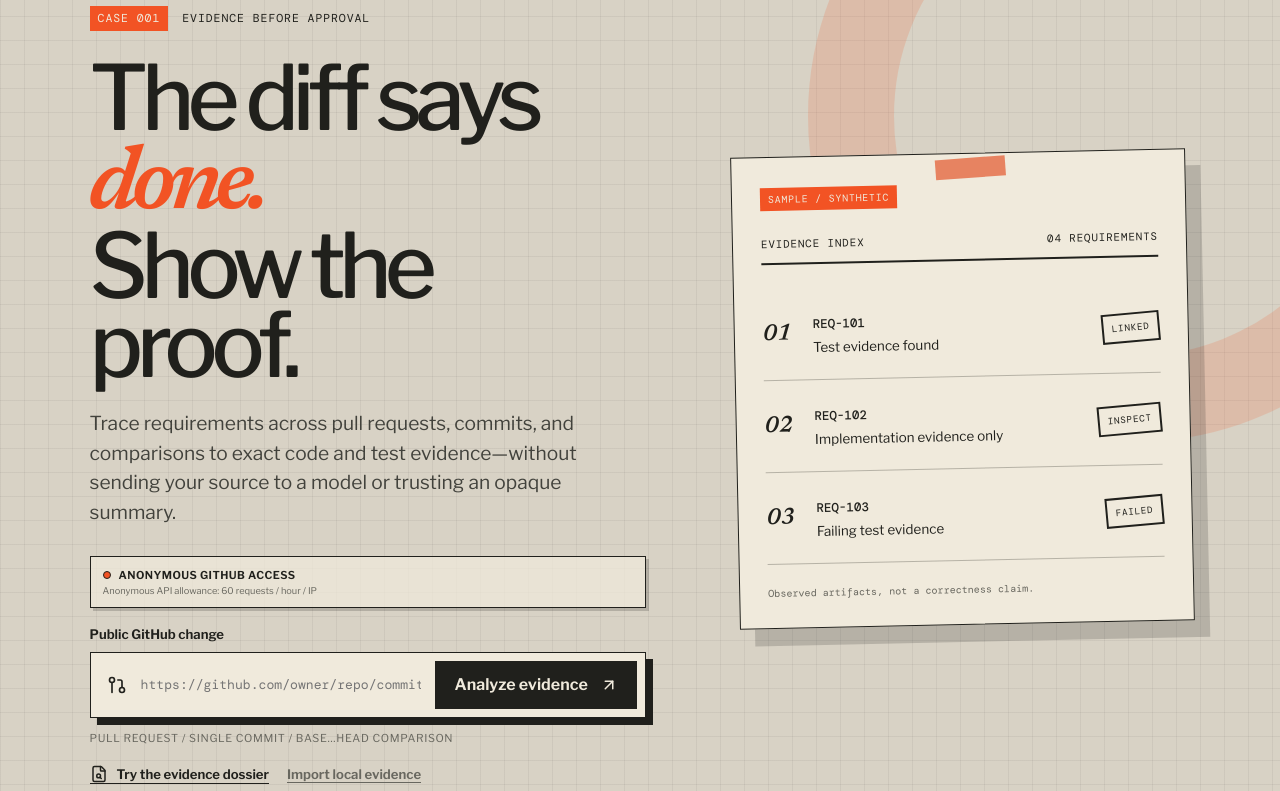
Test: Proofline application › PL-105 runs the real synthetic domains from one user action
(page scrolled)
Check: the text "Sample / synthetic" is shown, box 760,185 -> 898,211
Click the button "Try the evidence dossier": (179, 774) 90,765 -> 269,784
(page scrolled)
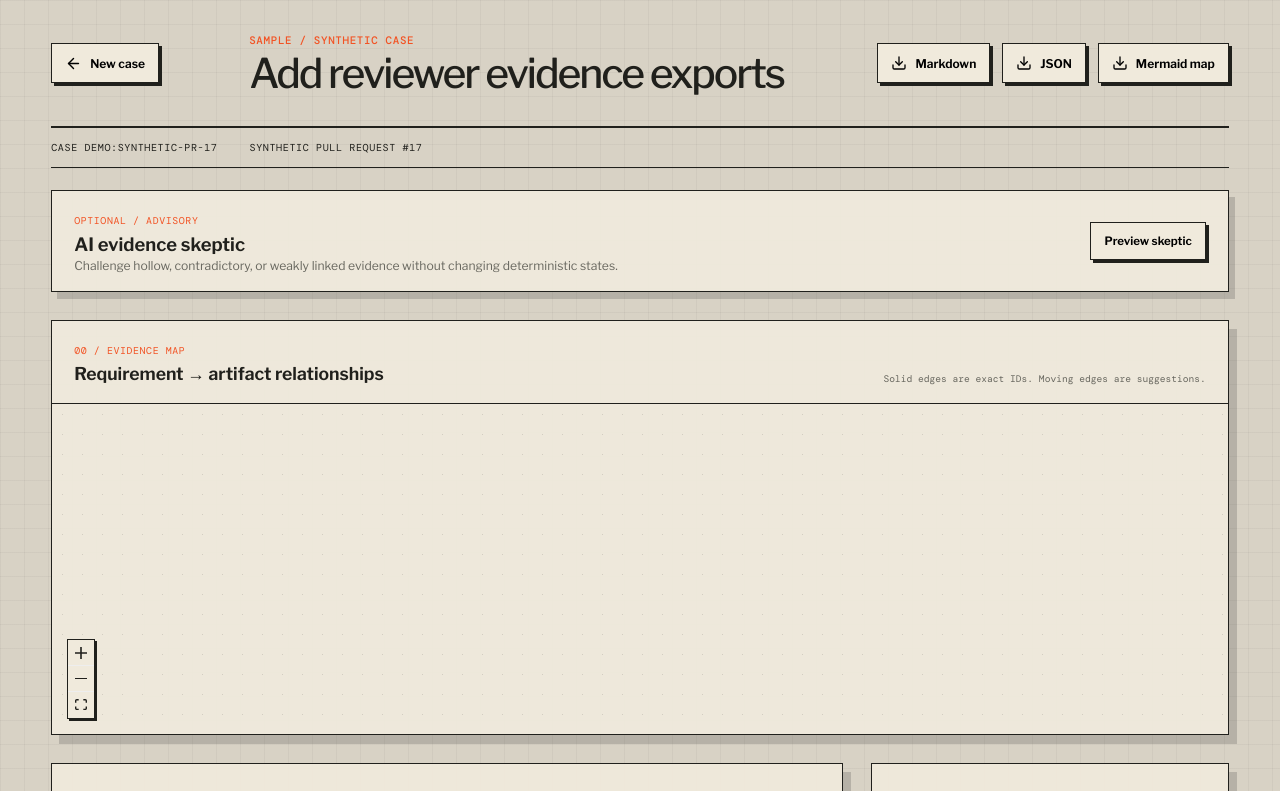
Check: the heading "Add reviewer evidence exports" is shown, box 249,52 -> 850,94
Check: the text "Sample / synthetic case" is shown, box 249,32 -> 414,46
